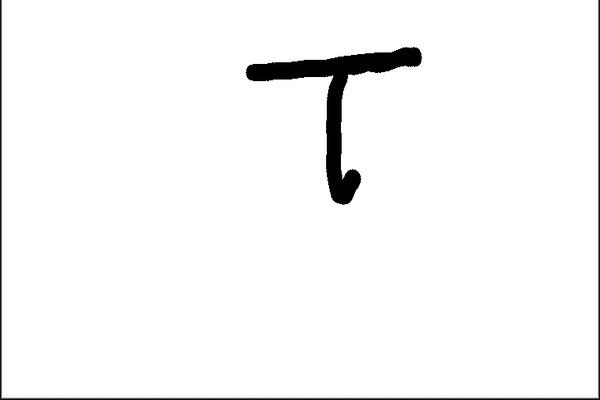T: (234, 41, 434, 216)
